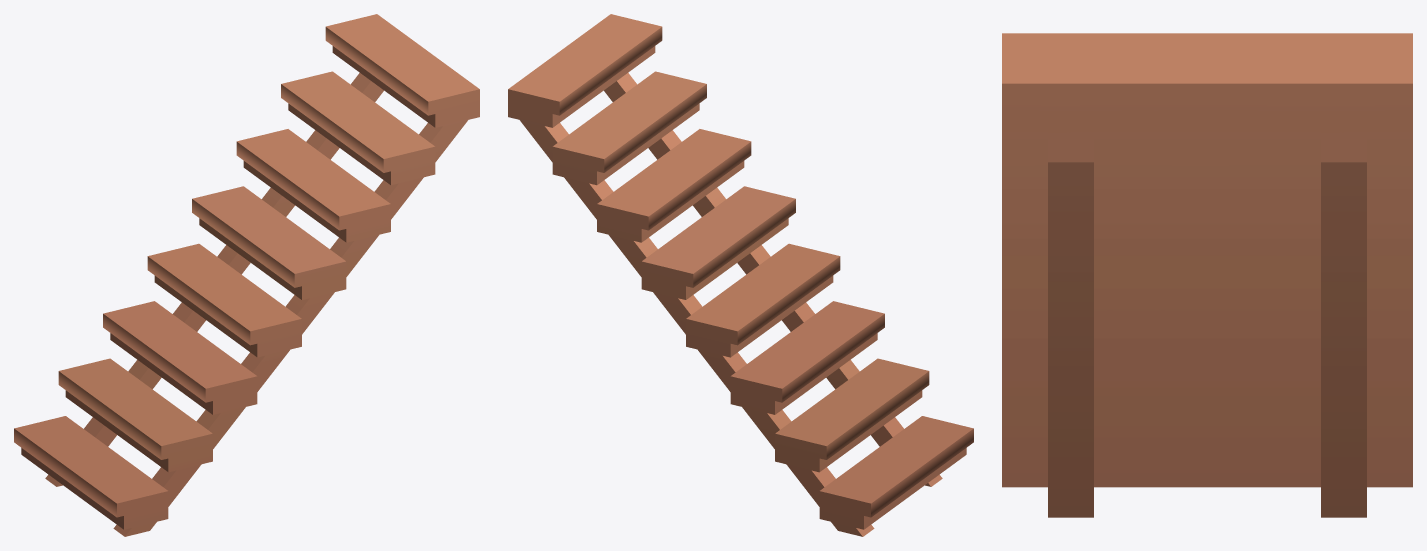
The model's file is tratrappa.glb.
3 renders of one model, left to right at view 1: azimuth 30°, elevation 25°; view 2: azimuth 150°, elevation 25°; view 3: azimuth 270°, elevation 25°, orthographic. The views are drawn at different scales.
Visible parts, largest first — view 1: stairs-wood; view 2: stairs-wood; view 3: stairs-wood.
Boxes of the visible parts, bbox=[...] form: stairs-wood: bbox=[14, 14, 479, 536]; stairs-wood: bbox=[508, 14, 973, 536]; stairs-wood: bbox=[1002, 33, 1412, 517].
Size of the model in its own units: 1.02 by 1 by 0.5.
Materials: 1 (1 with a texture image).
